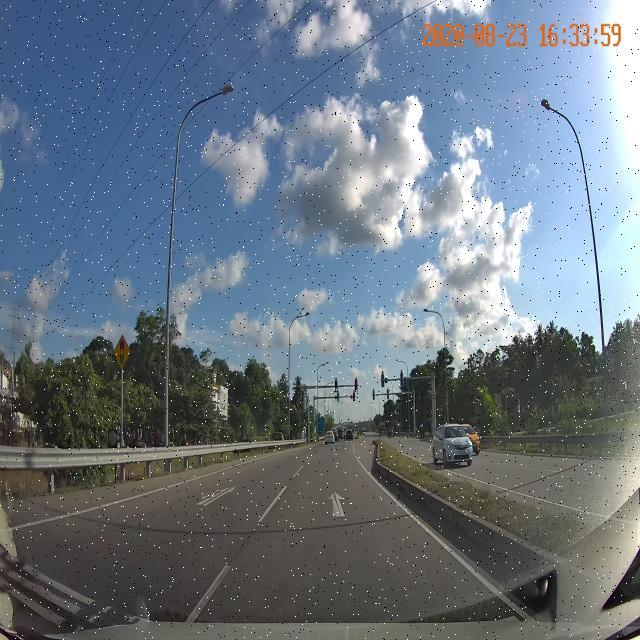forward: (243, 475, 446, 537)
